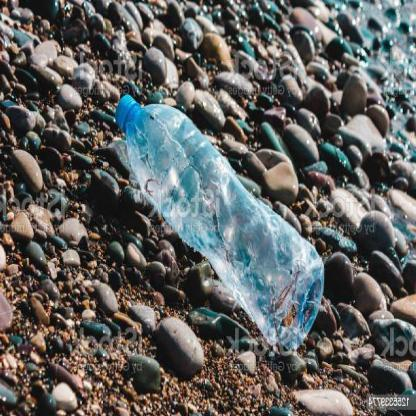Plastic: (110, 90, 326, 361)
